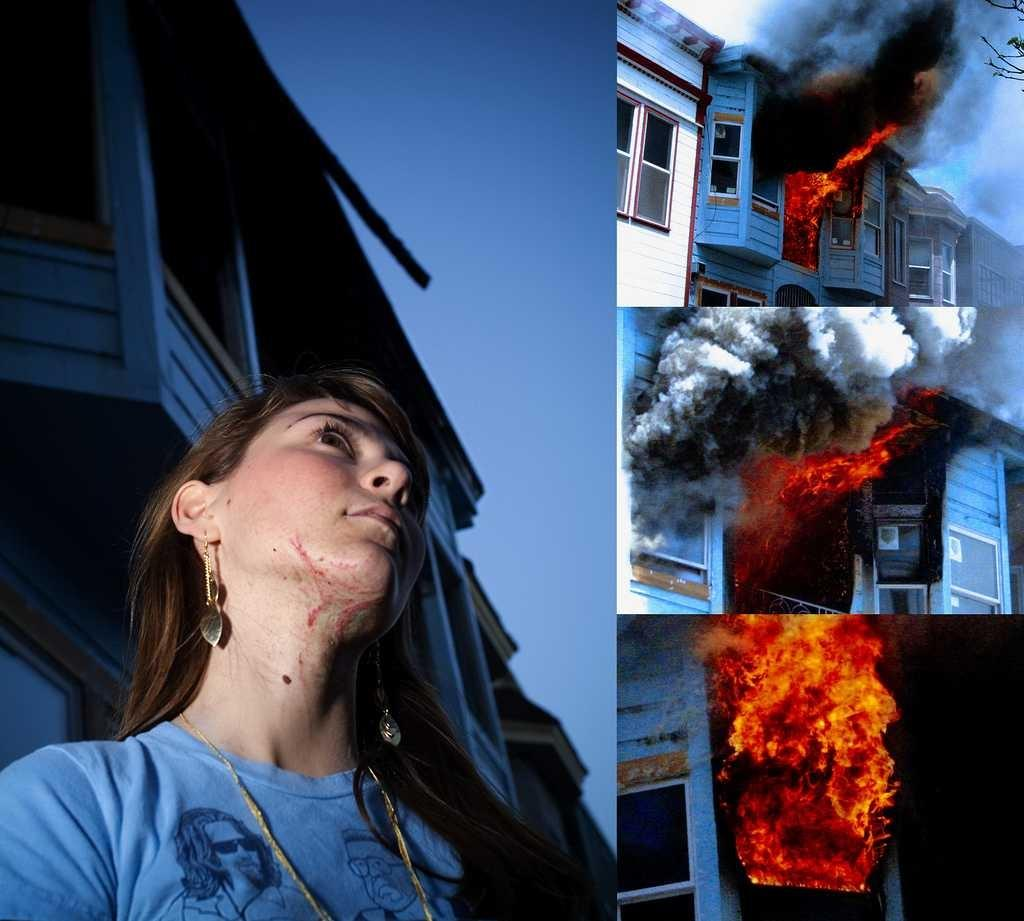fire: (730, 630, 892, 805), (748, 452, 885, 532), (780, 172, 848, 238)
smoke: (780, 65, 902, 160)
